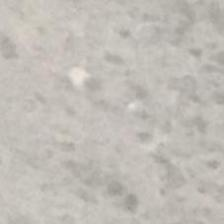Non_Crack: (5, 15, 224, 177)
